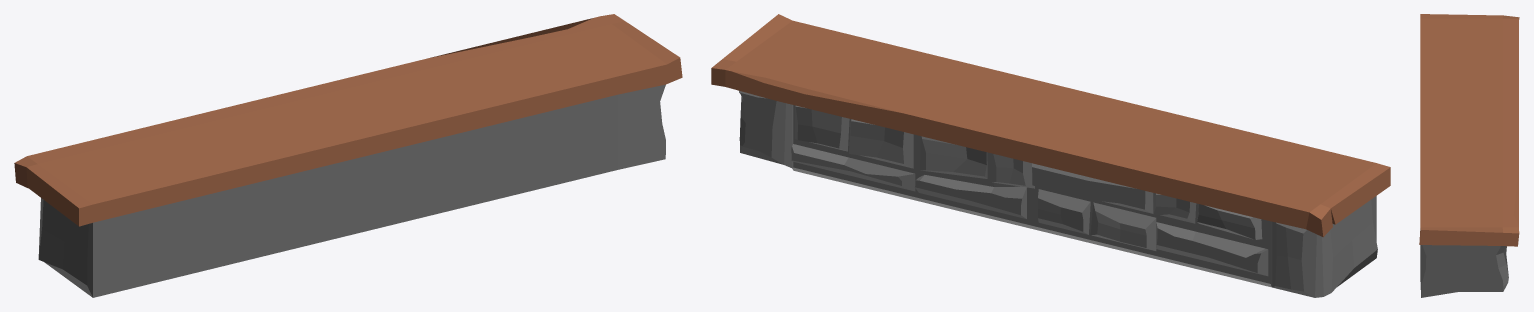
The model's file is RockTable_001.fbx.
3 renders of one model, left to right at view 1: azimuth 30°, elevation 25°; view 2: azimuth 150°, elevation 25°; view 3: azimuth 270°, elevation 25°, orthographic. The views are drawn at different scales.
Parts seen in each view (by area): view 1: RockTable.001; view 2: RockTable.001; view 3: RockTable.001.
Part boxes in pixels (x1=…): RockTable.001: x1=14, y1=14, x2=682, y2=297; RockTable.001: x1=711, y1=14, x2=1390, y2=297; RockTable.001: x1=1419, y1=14, x2=1519, y2=297.
Size of the model in its own units: 12.6 by 1.96 by 2.43.
